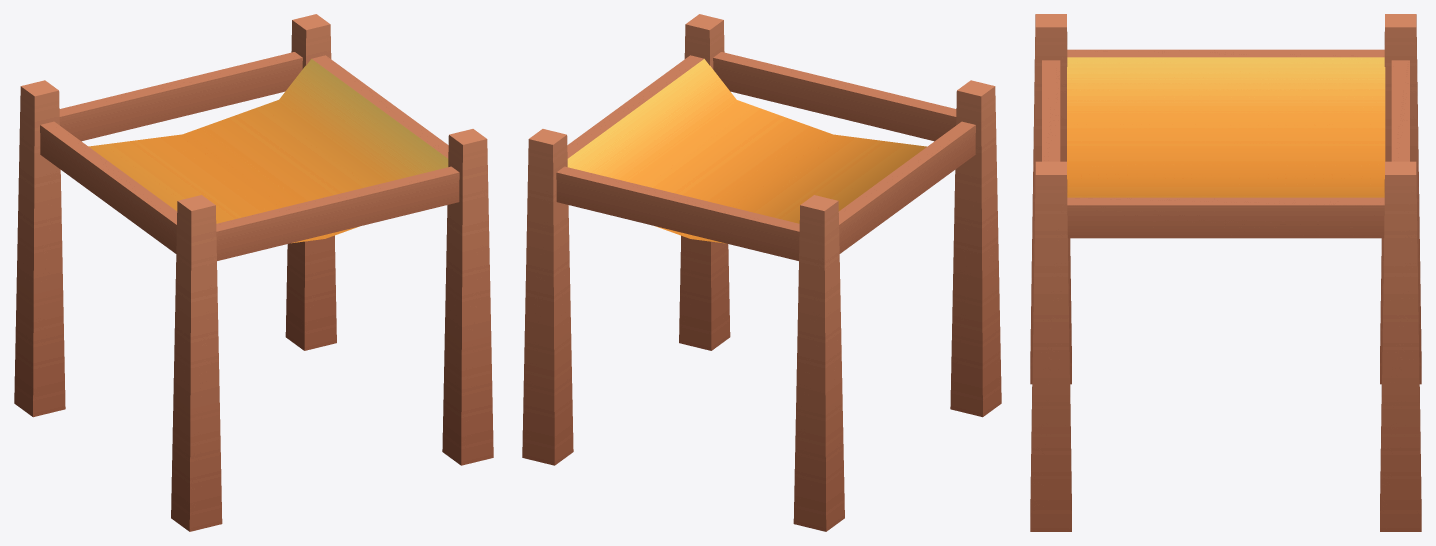
Rendered from structure-canvas.glb.
3 views of the same model, side by side, from view 1: azimuth 30°, elevation 25°; view 2: azimuth 150°, elevation 25°; view 3: azimuth 270°, elevation 25° (orthographic). The views are drawn at different scales.
Visible parts, largest first — view 1: structure-canvas; view 2: structure-canvas; view 3: structure-canvas.
Boxes of the visible parts, x1,y1,x2,y2 form: structure-canvas: (14,14,493,531); structure-canvas: (522,14,1001,531); structure-canvas: (1030,14,1421,531).
Size of the model in its own units: 0.5 by 0.5 by 0.5.
Materials: 1 (1 with a texture image).
